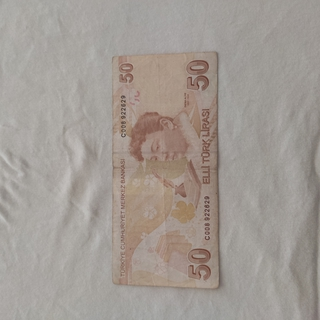50TLBack: (110, 51, 220, 289)
